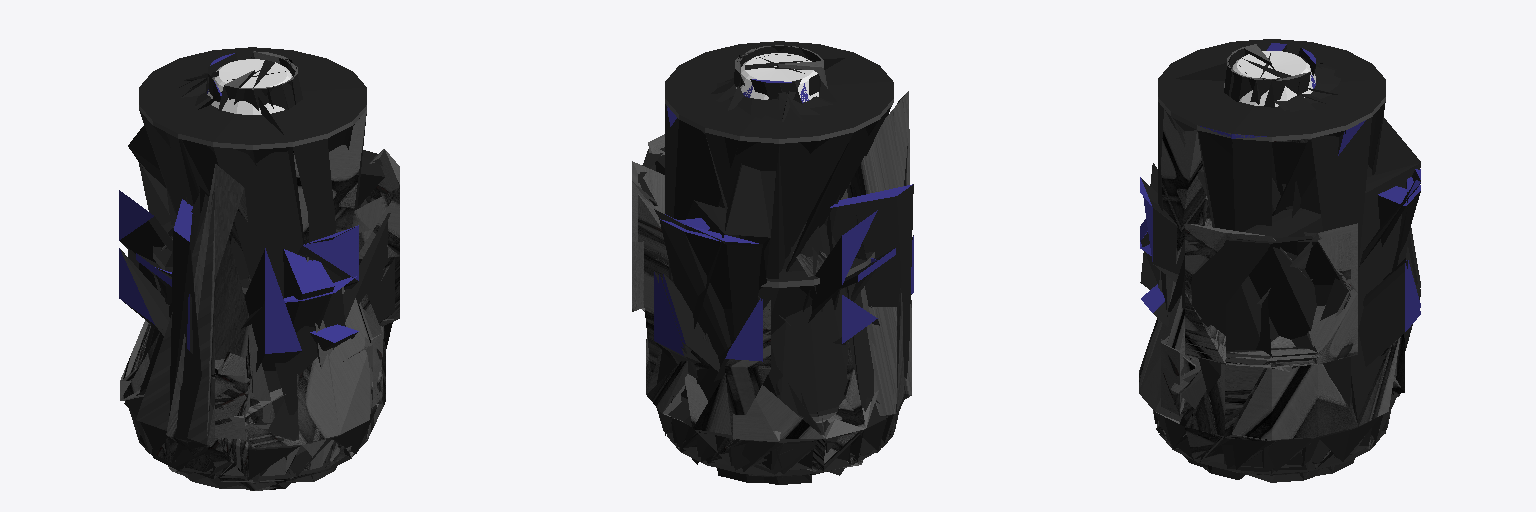
3 views of the same model, side by side, from view 1: azimuth 30°, elevation 25°; view 2: azimuth 150°, elevation 25°; view 3: azimuth 270°, elevation 25° (orthographic).
Visible parts, largest first — view 1: Scifi_structure_Connector_2, Inside_scifi_structure_Connector_2; view 2: Scifi_structure_Connector_2, Inside_scifi_structure_Connector_2; view 3: Scifi_structure_Connector_2, Inside_scifi_structure_Connector_2.
Boxes of the visible parts, x1,y1,x2,y2 form: Scifi_structure_Connector_2: [119, 51, 399, 490]; Inside_scifi_structure_Connector_2: [139, 47, 366, 428]; Scifi_structure_Connector_2: [632, 45, 913, 484]; Inside_scifi_structure_Connector_2: [665, 41, 893, 421]; Scifi_structure_Connector_2: [1139, 43, 1420, 482]; Inside_scifi_structure_Connector_2: [1158, 39, 1385, 141].
Bounding box in the file's own units: 2.51 × 3.68 × 2.48.
9 materials, 3 textured.